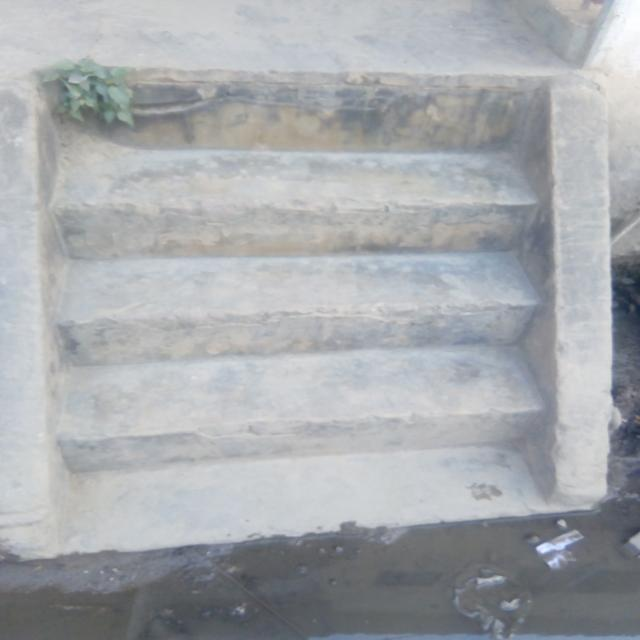stair: (35, 68, 570, 549)
